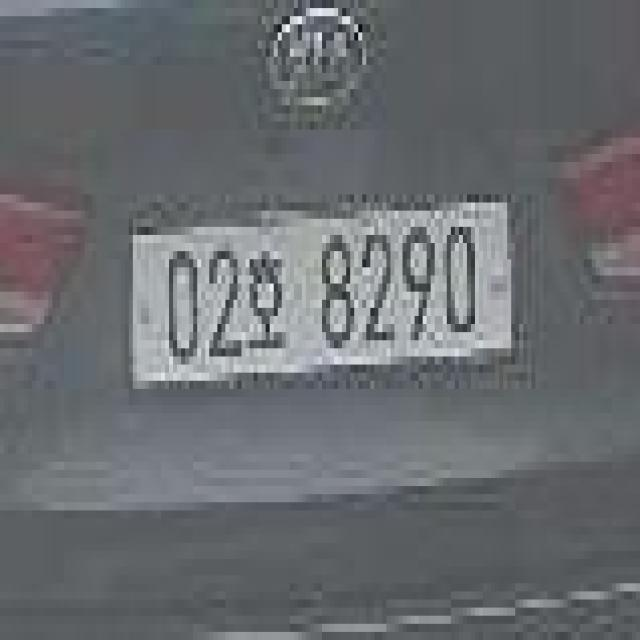illegal_plate: (124, 196, 523, 394)
